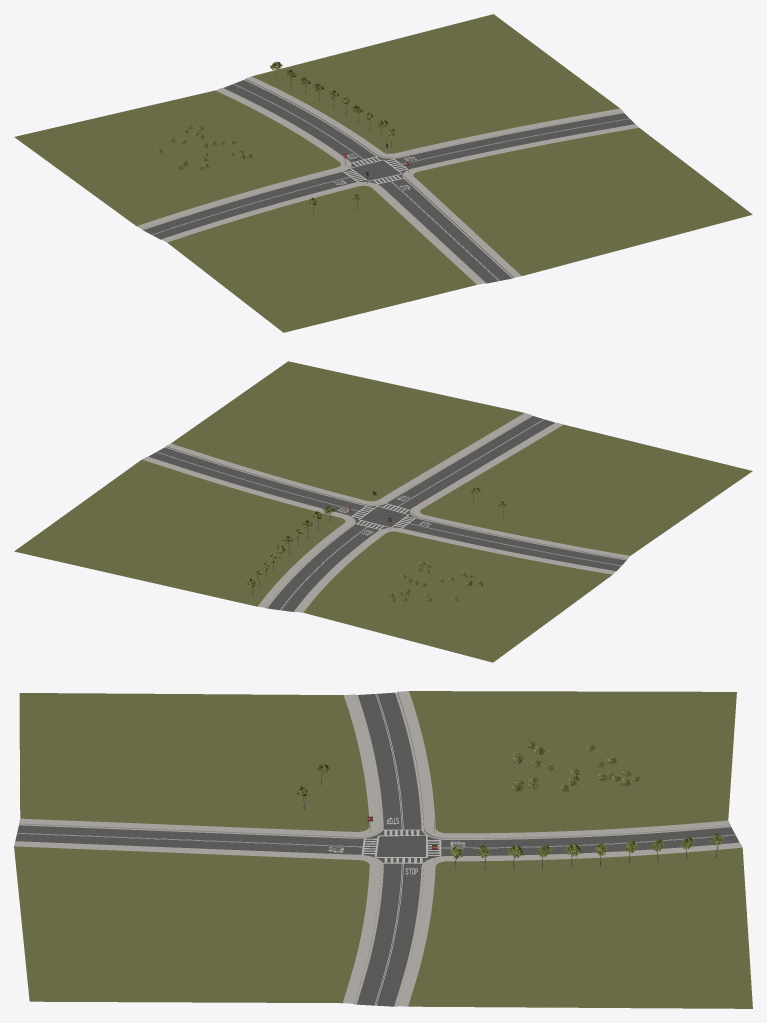
File: FourWayStop.fbx
3 renders of one model, top to bottom at view 1: azimuth 30°, elevation 25°; view 2: azimuth 150°, elevation 25°; view 3: azimuth 270°, elevation 25°, orthographic. The views are drawn at different scales.
Parts seen in each view (by area): view 1: Terrain_Layer0Node, Roads_Layer0Node; view 2: Terrain_Layer0Node, Roads_Layer0Node; view 3: Terrain_Layer0Node, Roads_Layer0Node.
Boxes of the visible parts, x1,y1,x2,y2 form: Terrain_Layer0Node: [14, 14, 752, 332]; Roads_Layer0Node: [137, 76, 638, 284]; Terrain_Layer0Node: [14, 361, 752, 662]; Roads_Layer0Node: [142, 413, 629, 612]; Terrain_Layer0Node: [14, 691, 752, 1008]; Roads_Layer0Node: [14, 691, 742, 1006].
Size of the model in its own units: 140 by 137 by 5.86.
